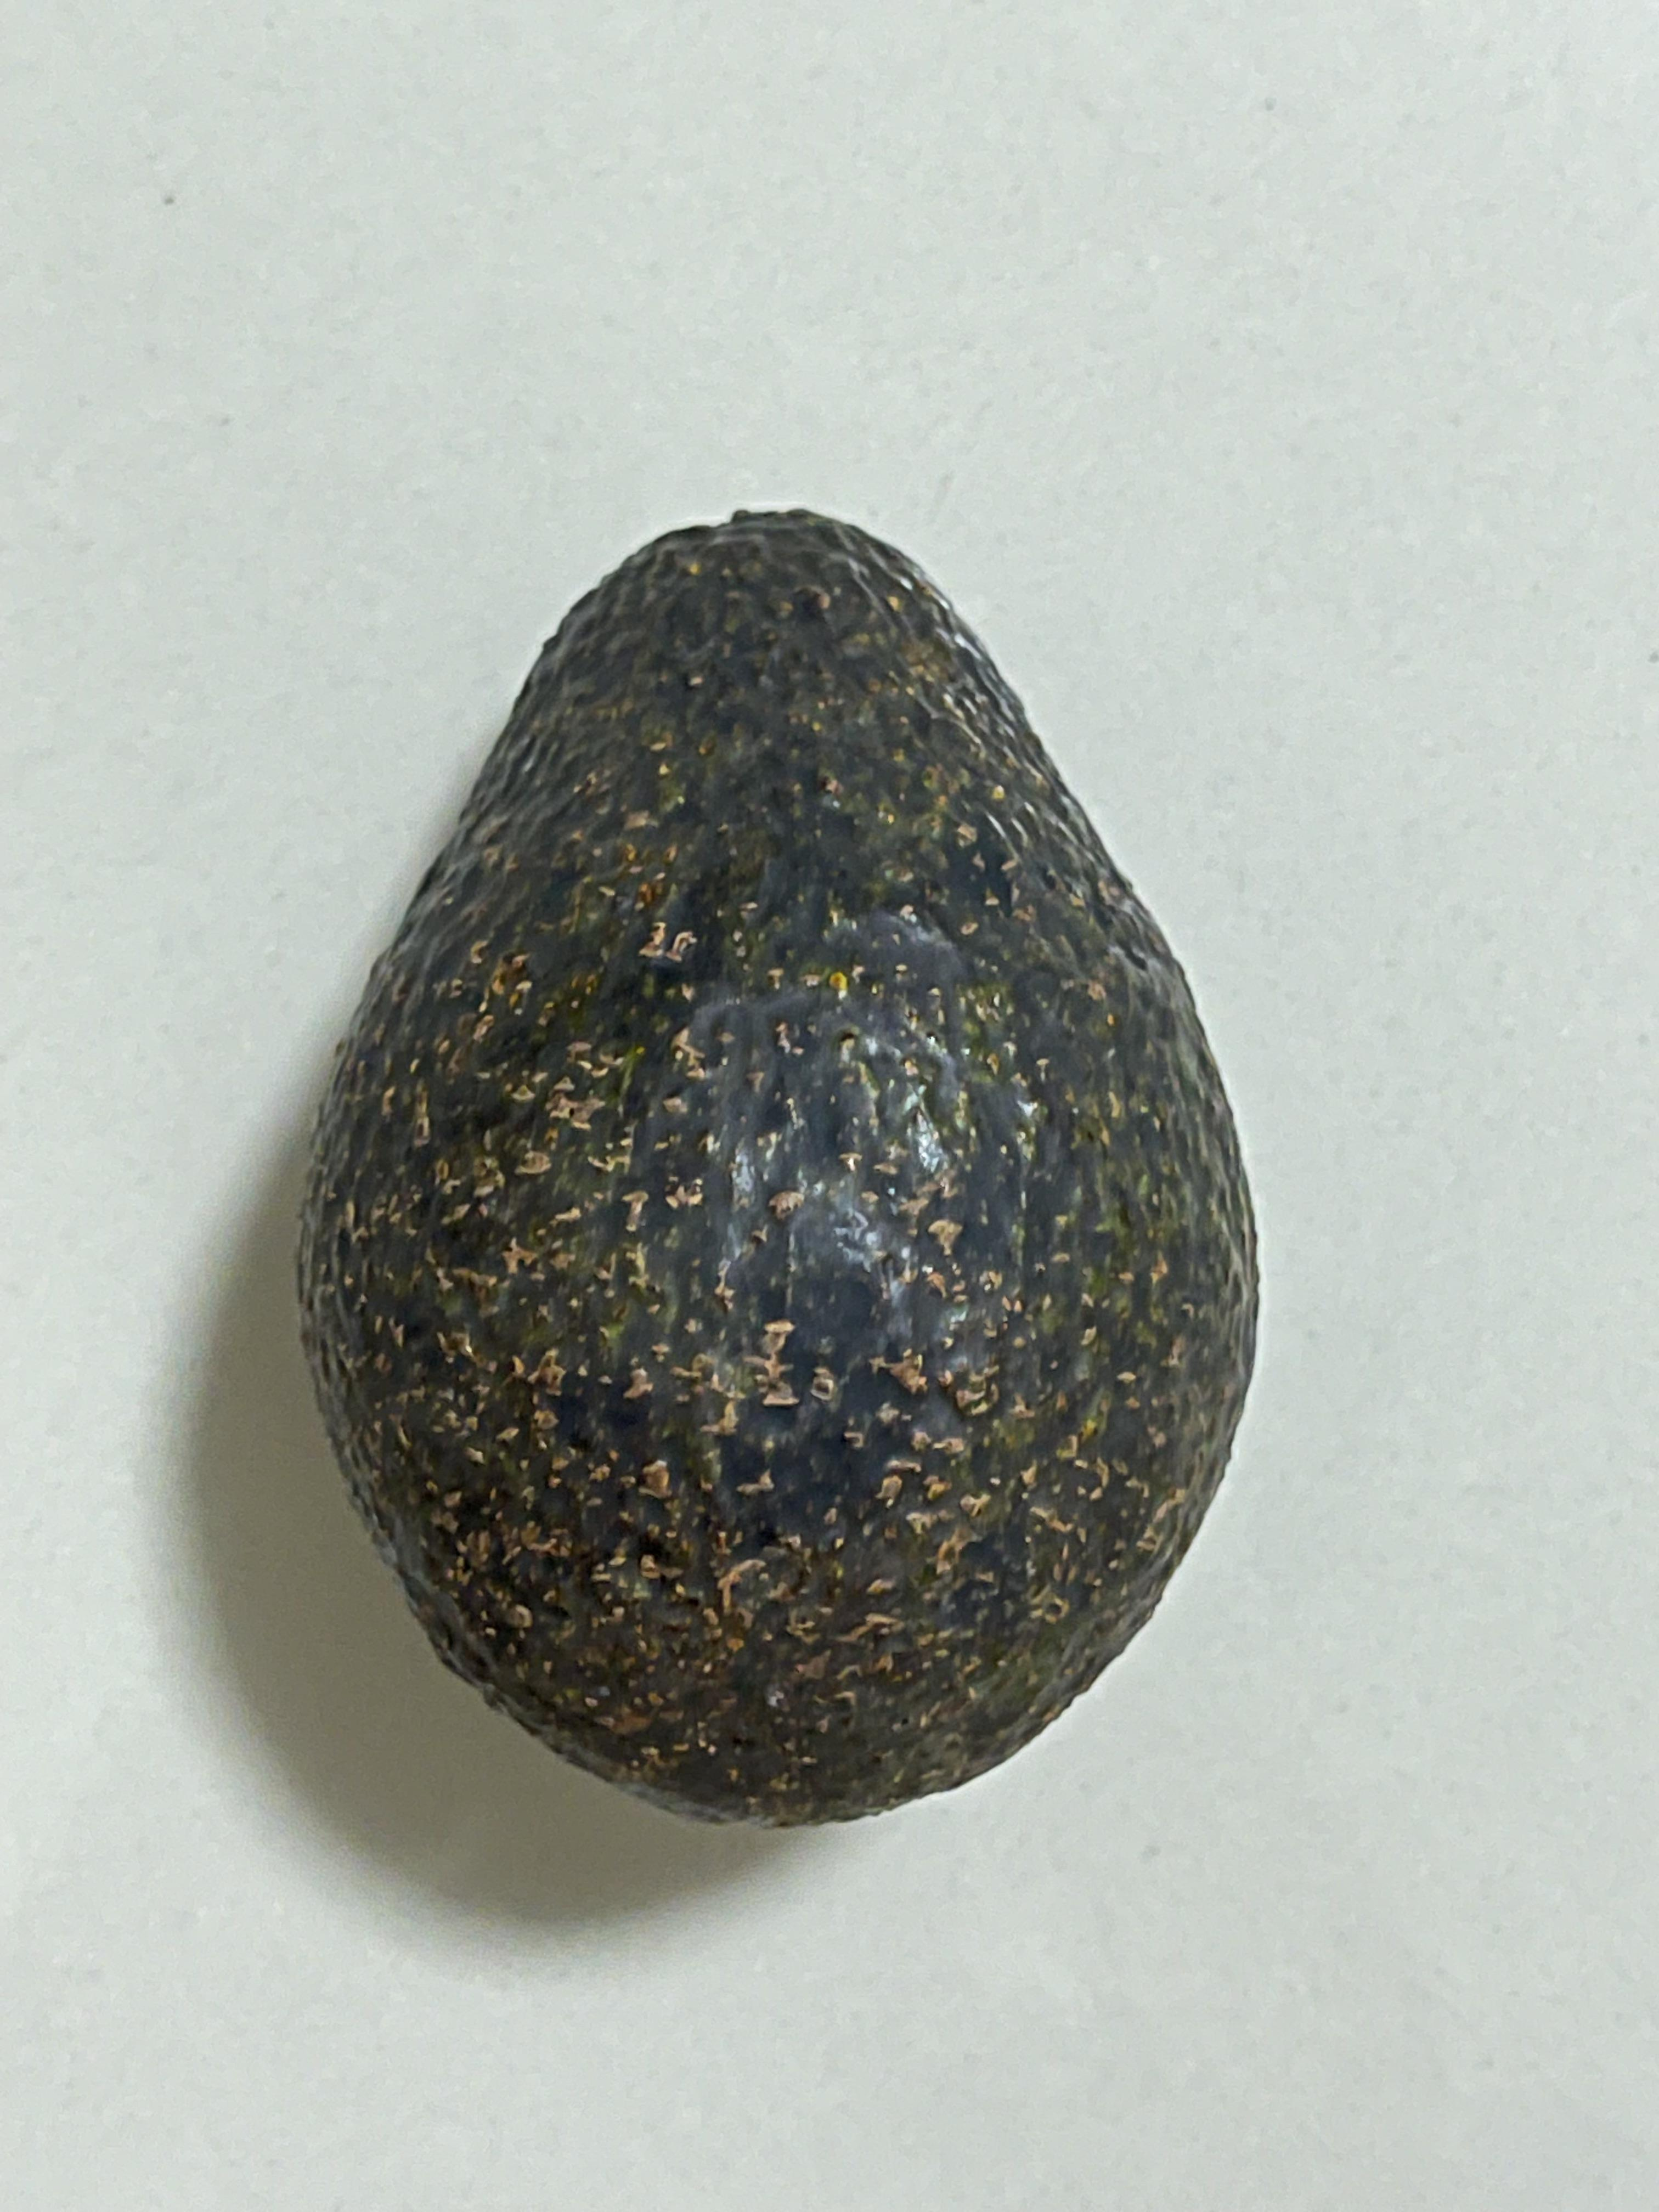Level2: (268, 477, 1288, 1851)
